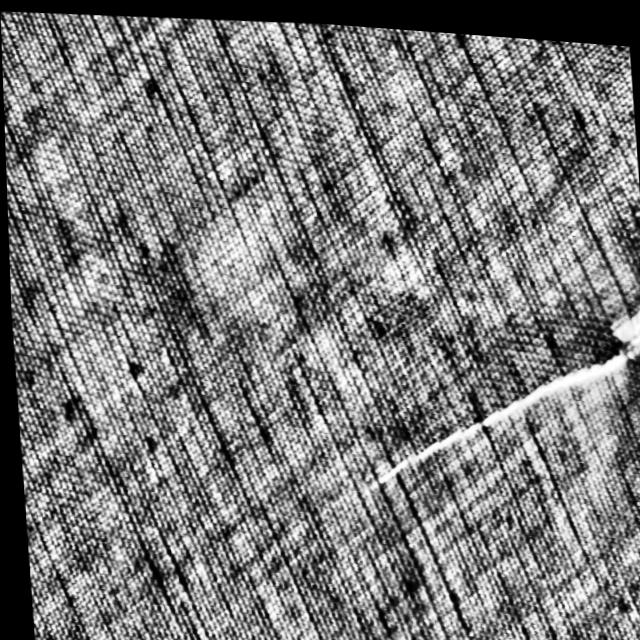Hole: (335, 251, 640, 518)
